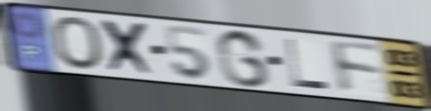5: (163, 22, 214, 83)
F: (327, 38, 385, 96)
G: (214, 28, 272, 89)
L: (283, 37, 333, 92)
O: (49, 15, 106, 72)
X: (98, 17, 160, 79)
